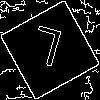L: (25, 25, 65, 77)
